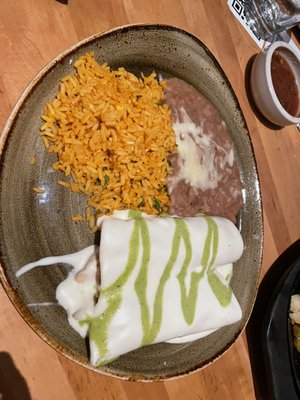curry: (0, 1, 299, 323)
